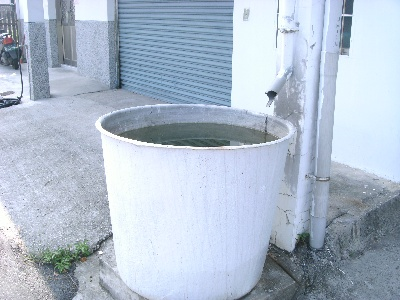bucket: (96, 103, 297, 300)
